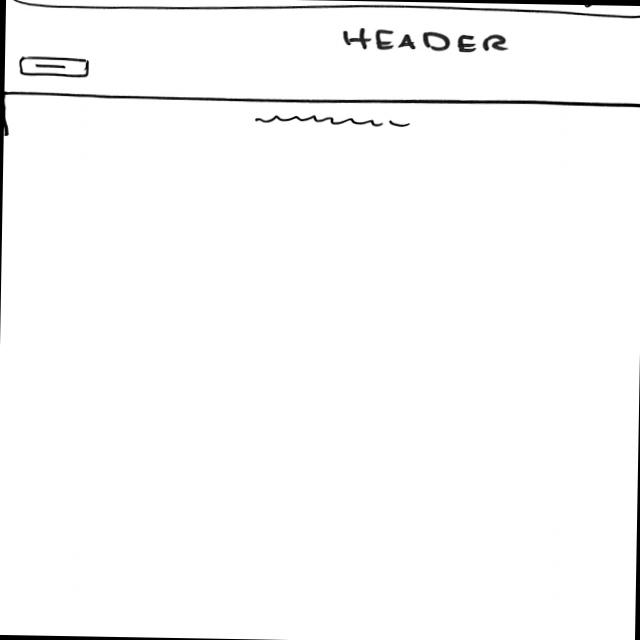container: (6, 1, 640, 20)
icon-button: (18, 56, 92, 81)
label: (345, 27, 512, 56)
text: (252, 113, 415, 130)
